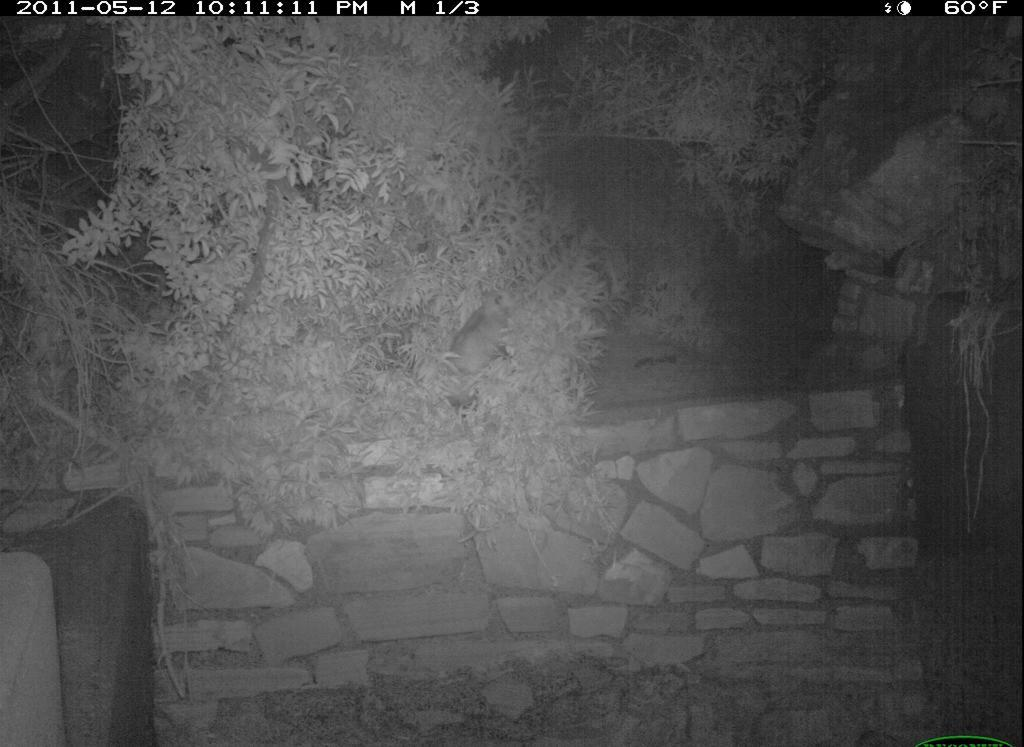opossum: (438, 273, 536, 399)
